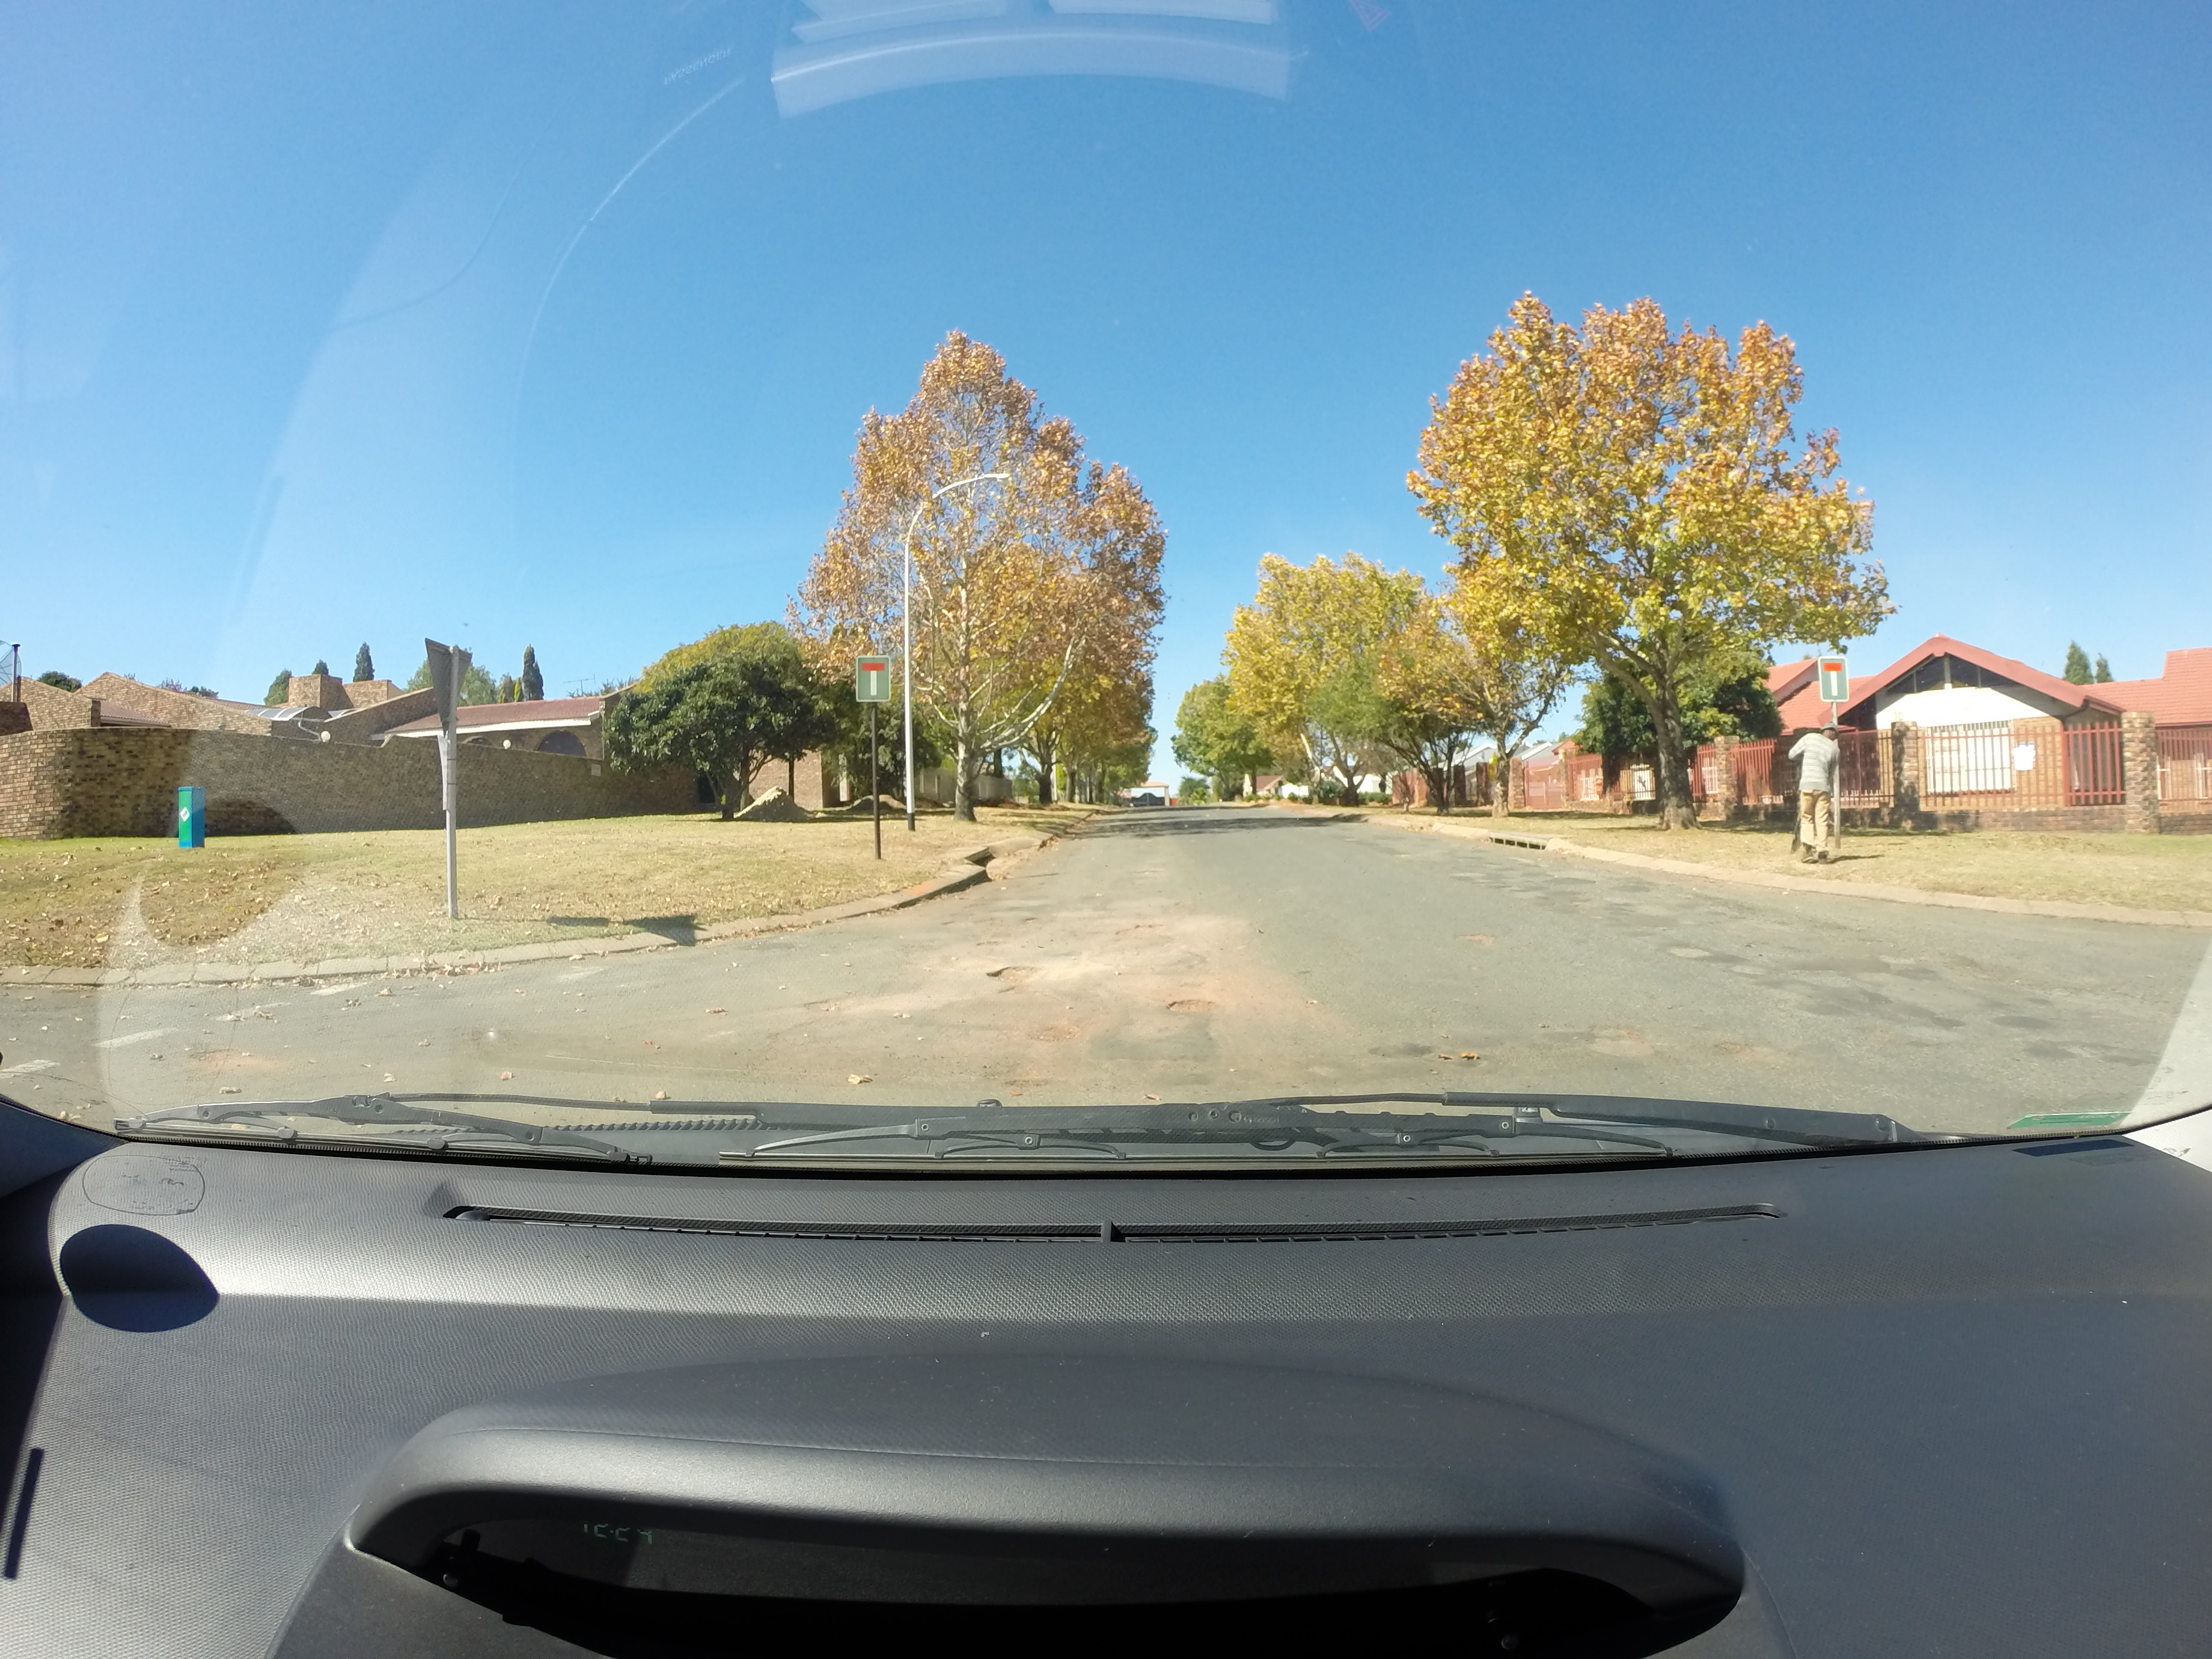pothole: (972, 962, 1064, 1002)
